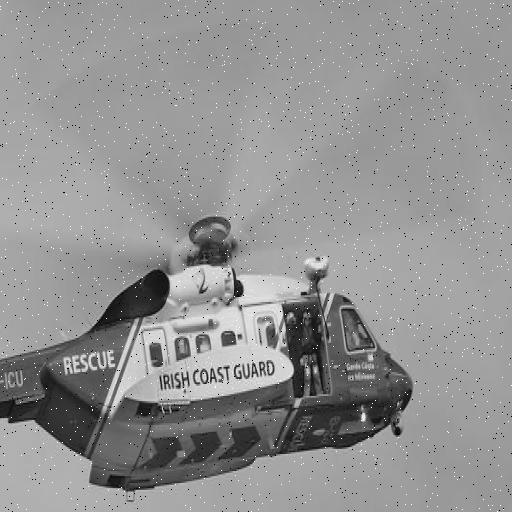helicopter: (1, 203, 420, 510)
